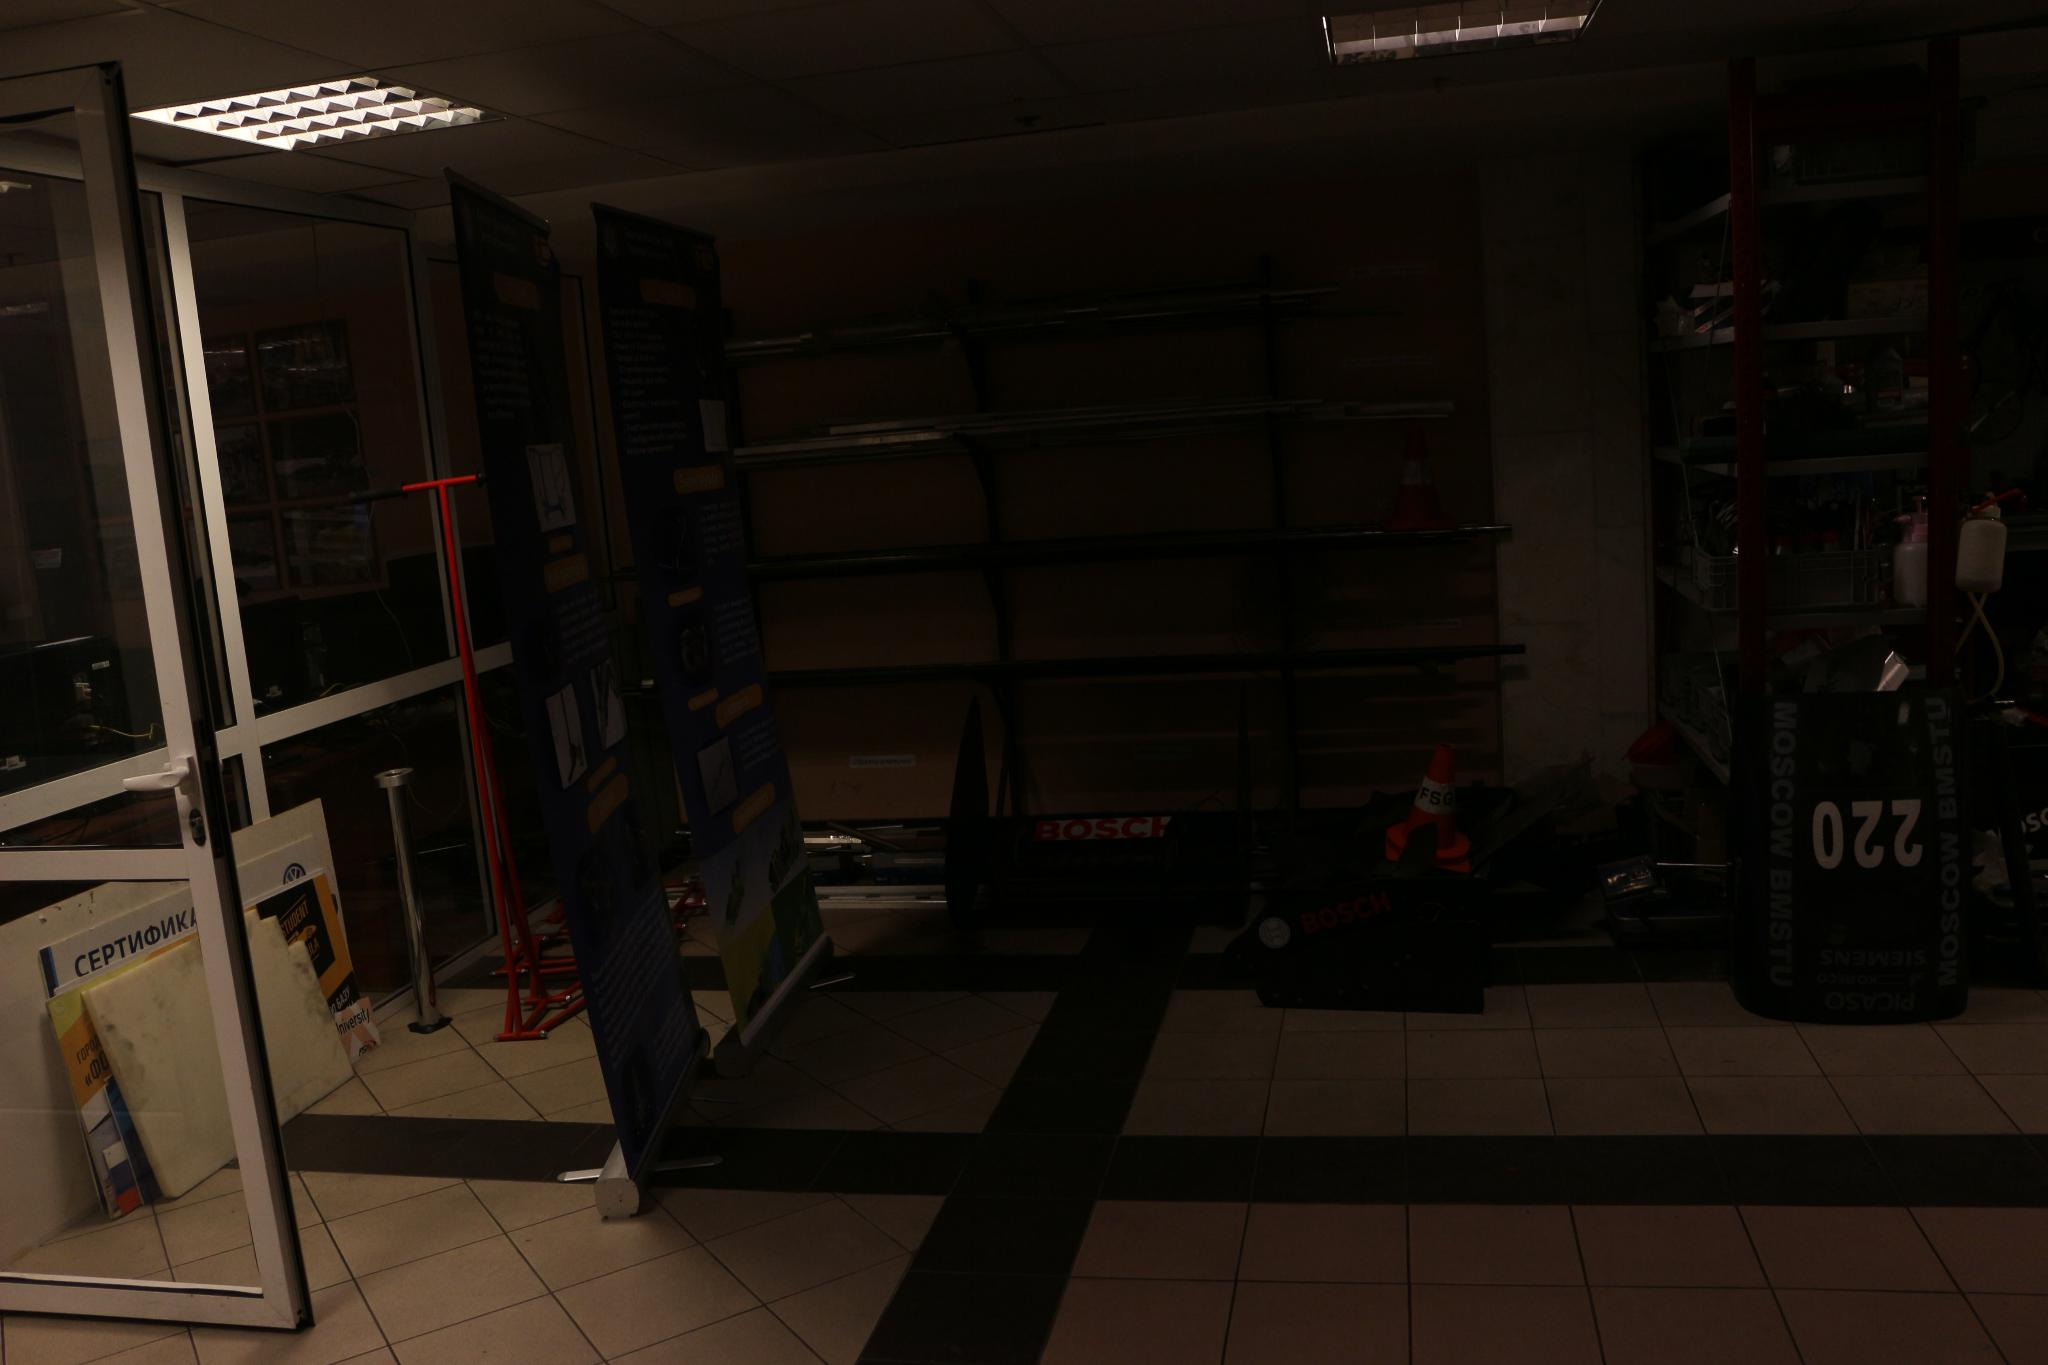Orange_Cone: (1386, 745, 1474, 873)
